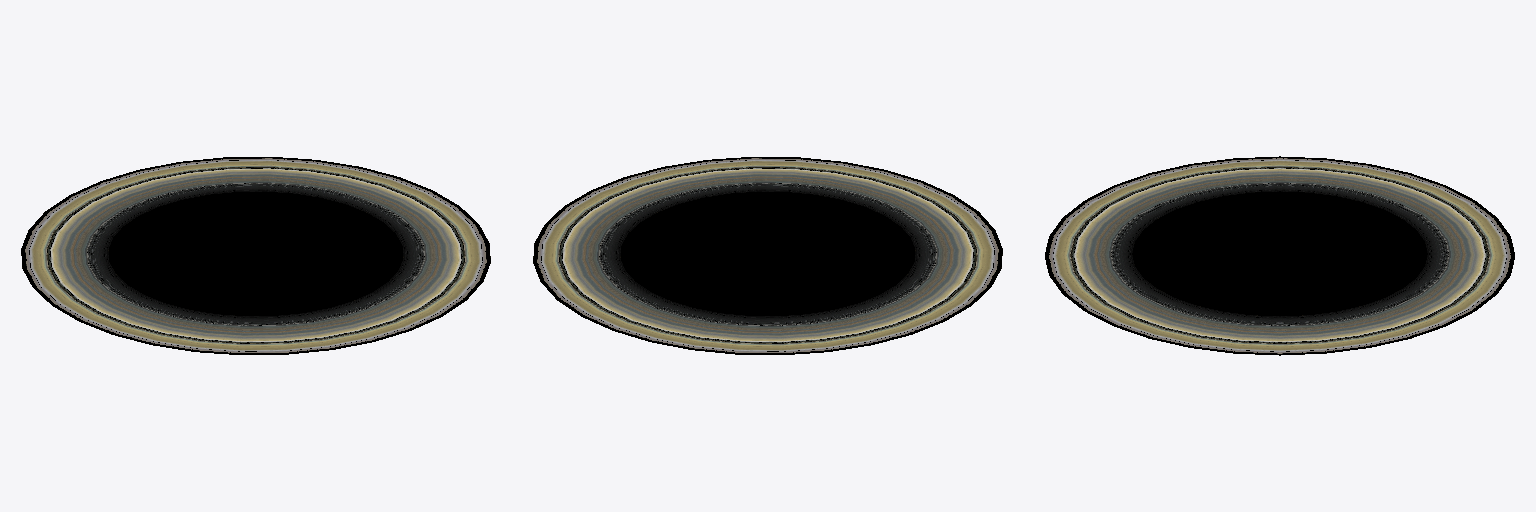
3 renders of one model, left to right at view 1: azimuth 30°, elevation 25°; view 2: azimuth 150°, elevation 25°; view 3: azimuth 270°, elevation 25°, orthographic.
Bounding box in the file's own units: 1.93 × 0.0185 × 1.93.
2 materials, 1 textured.